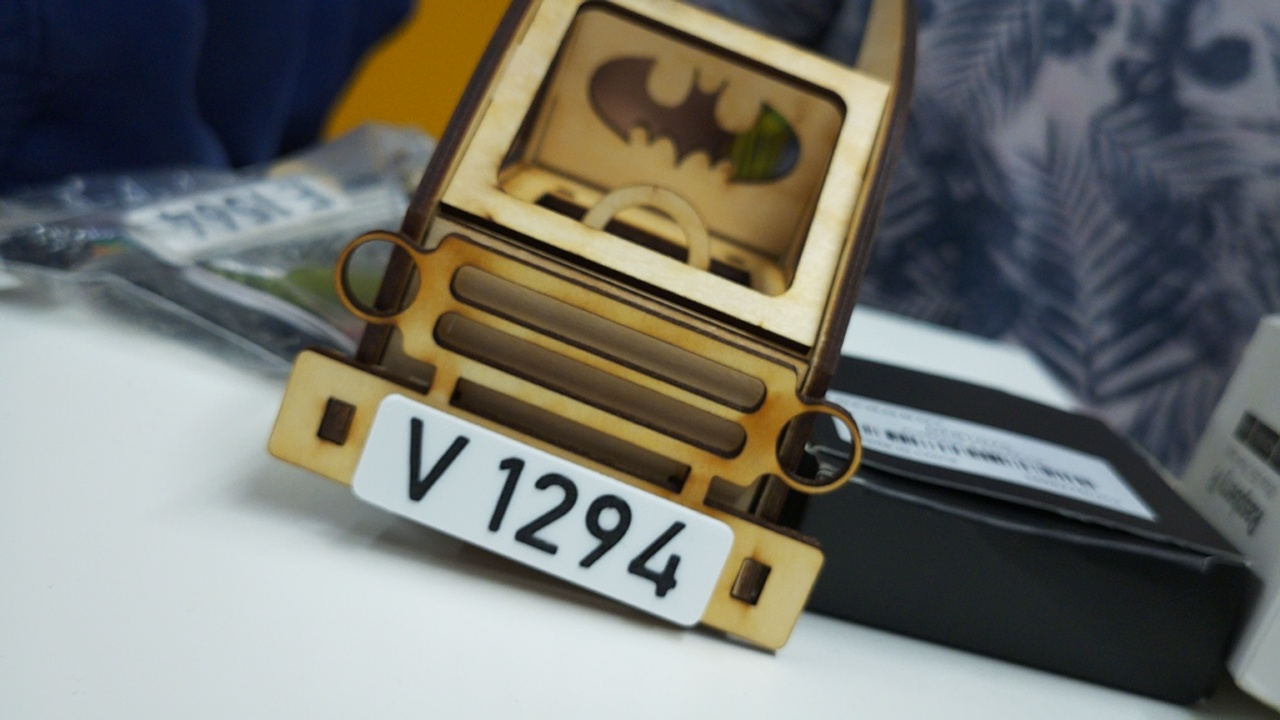license_plate: (351, 392, 736, 630)
